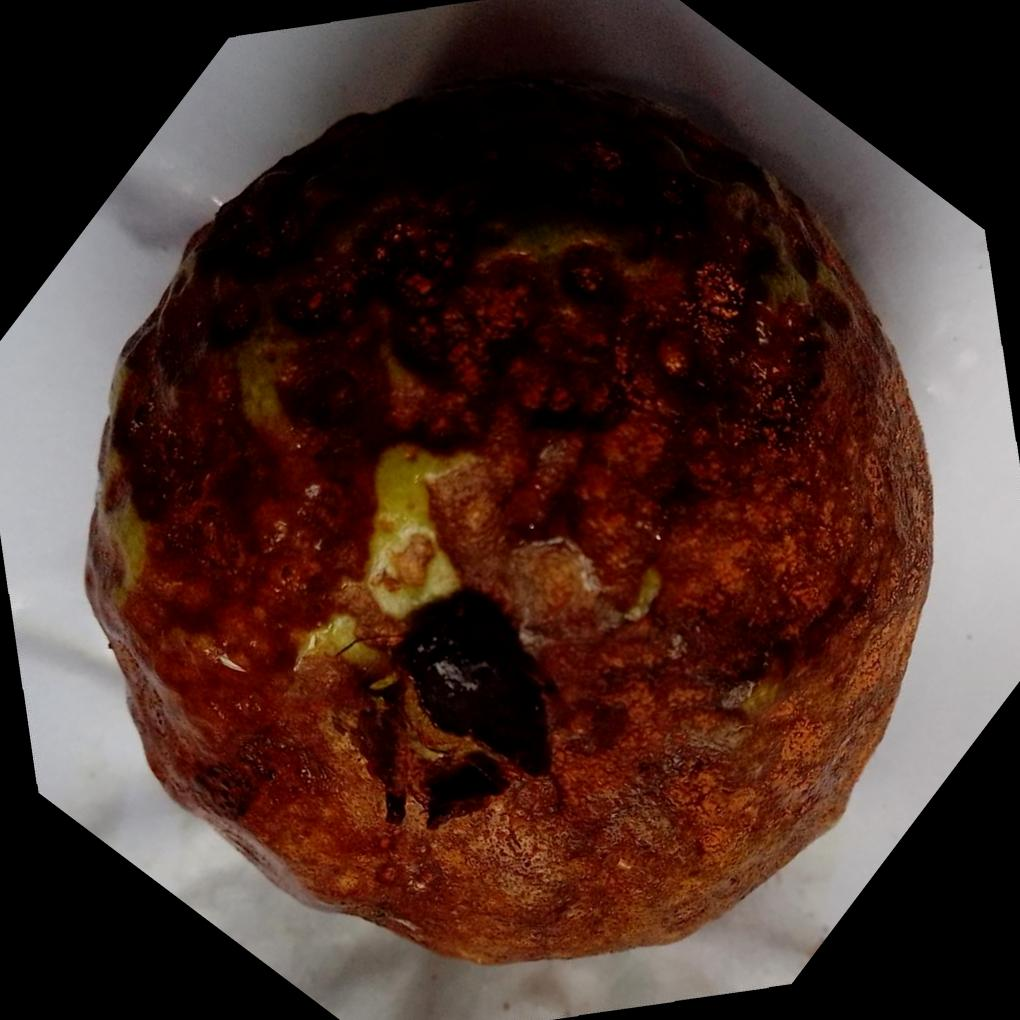FreshOrange: (84, 71, 938, 965)
